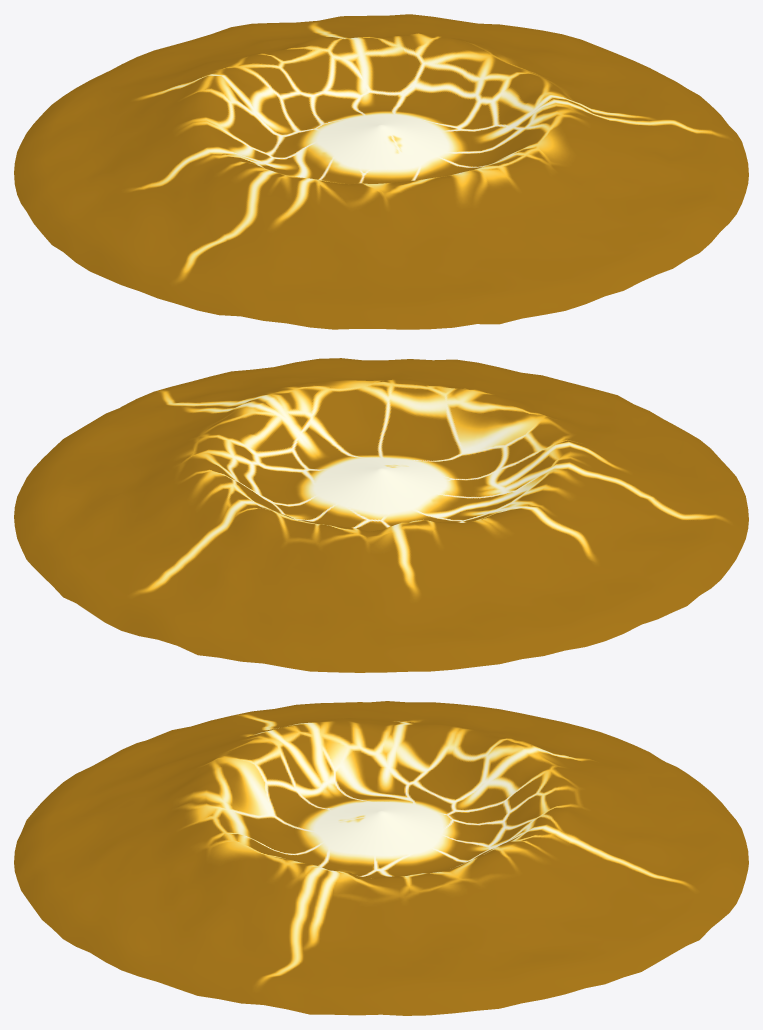
File: magma_gold.glb
3 renders of one model, top to bottom at view 1: azimuth 30°, elevation 25°; view 2: azimuth 150°, elevation 25°; view 3: azimuth 270°, elevation 25°, orthographic.
Visible parts, largest first — view 1: magma; view 2: magma; view 3: magma.
Part boxes in pixels (x1=…): magma: x1=14, y1=14, x2=748, y2=329; magma: x1=14, y1=358, x2=748, y2=672; magma: x1=14, y1=701, x2=748, y2=1015.
Size of the model in its own units: 4 by 0.4326 by 4.
1 material, 1 textured.
